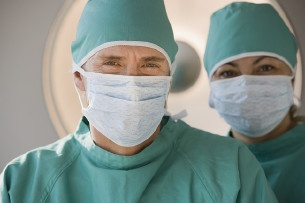Mask: (73, 50, 167, 145)
